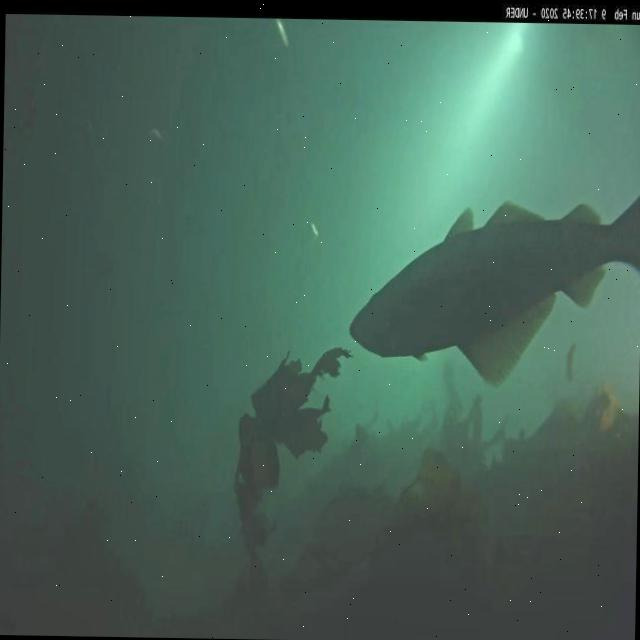fish: (344, 183, 640, 379), (270, 23, 290, 50), (307, 222, 319, 245)
